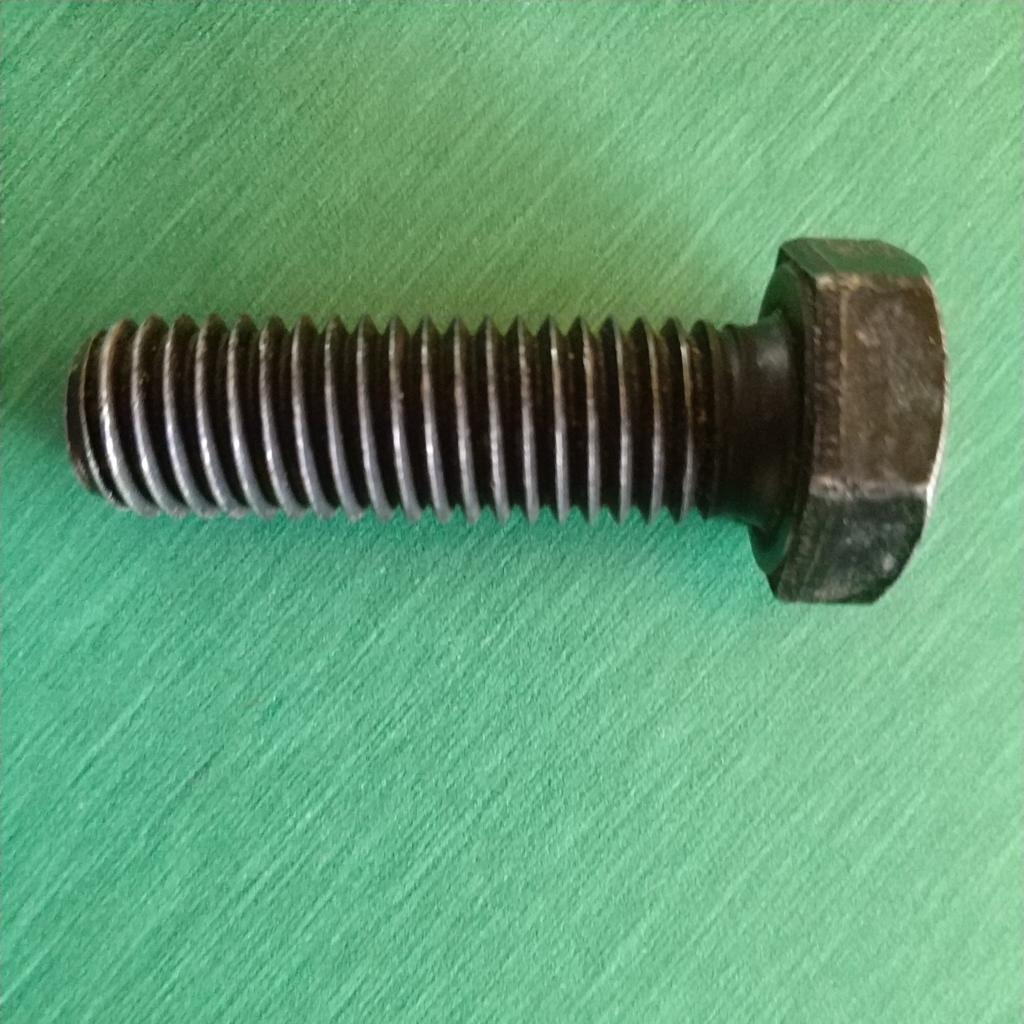screwtype2black: (52, 234, 950, 615)
